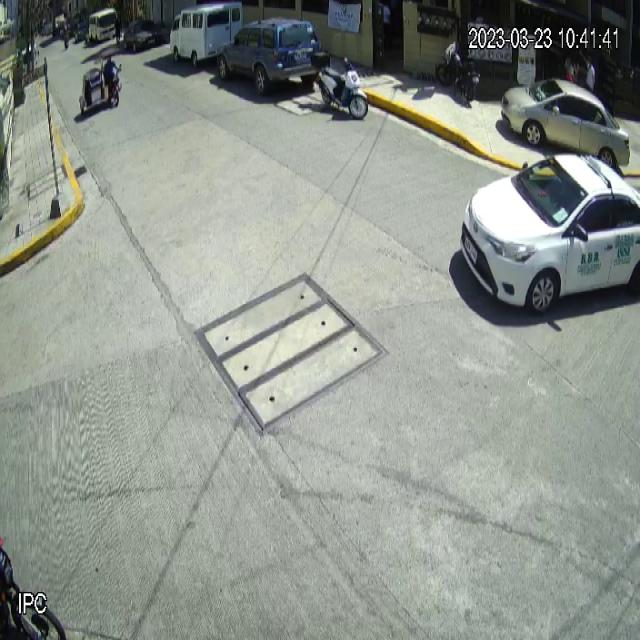Car: (460, 153, 640, 313), (500, 79, 631, 172), (217, 16, 322, 89)
Motorcycle: (310, 50, 369, 117)
Van: (169, 2, 244, 68)
